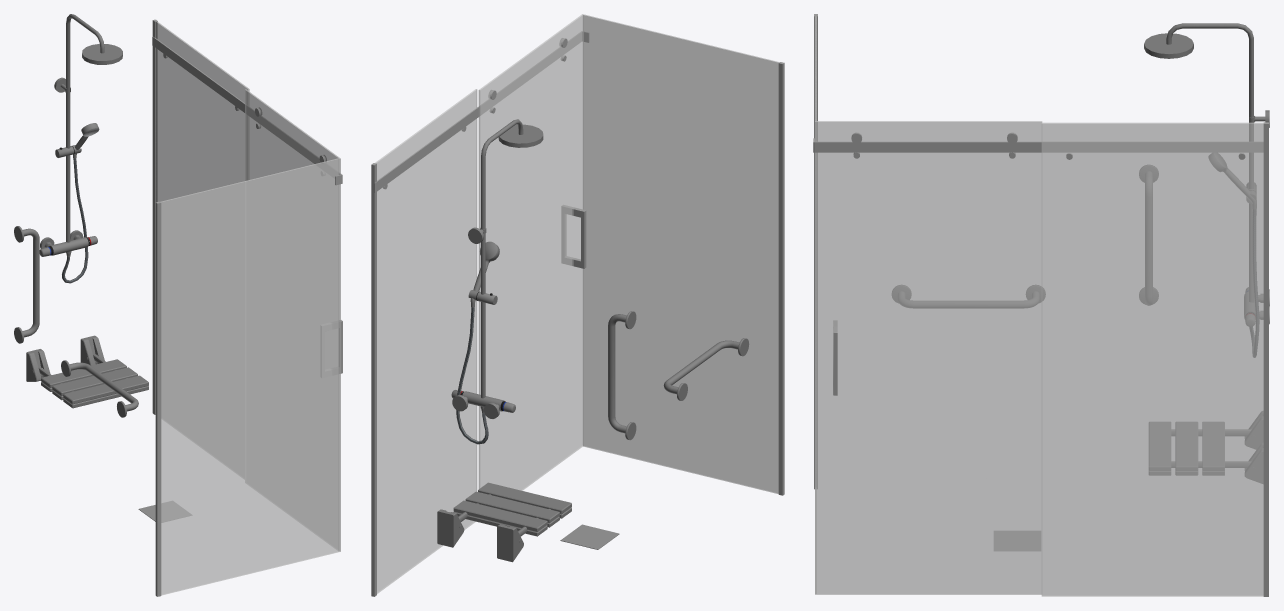
File: sh_scopia_shower_cabin_with_seat.glb
3 views of the same model, side by side, from view 1: azimuth 30°, elevation 25°; view 2: azimuth 150°, elevation 25°; view 3: azimuth 270°, elevation 25° (orthographic). The views are drawn at different scales.
Bounding box in the file's own units: 1 × 2.13 × 1.7.
32 materials, 4 textured.
